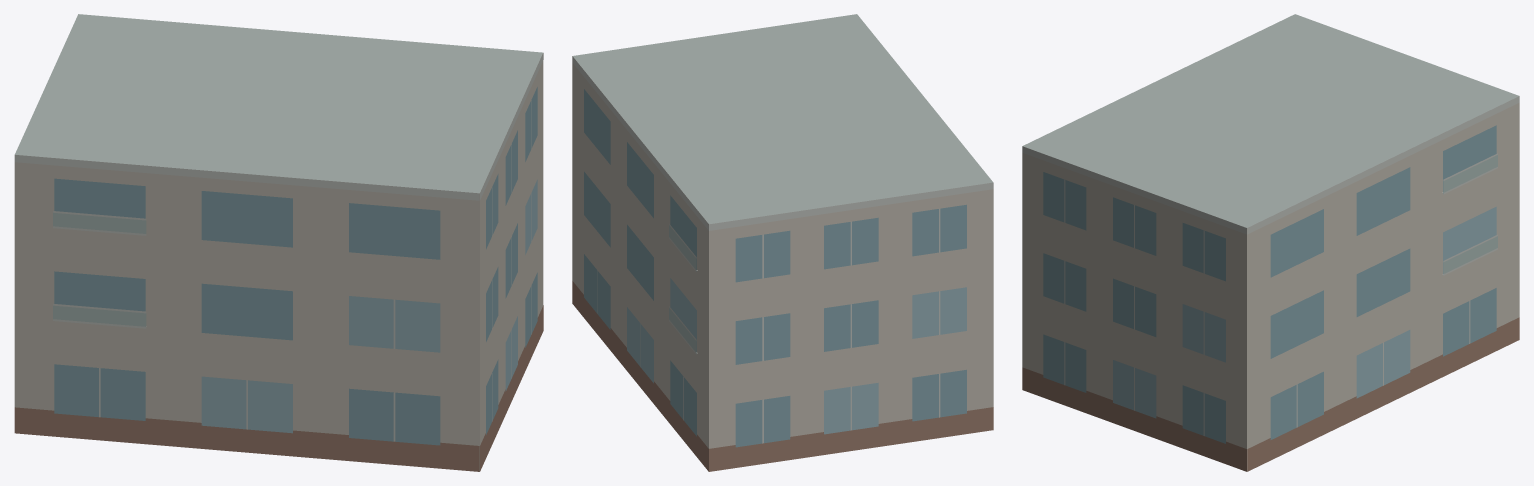
The model's file is survey-upis-32934901.glb.
3 views of the same model, side by side, from view 1: azimuth 30°, elevation 25°; view 2: azimuth 150°, elevation 25°; view 3: azimuth 270°, elevation 25° (orthographic). The views are drawn at different scales.
Visible parts, largest first — view 1: survey-upis-32934901.tmp; view 2: survey-upis-32934901.tmp; view 3: survey-upis-32934901.tmp.
Part boxes in pixels (box(x1,y1,x2,y2)): survey-upis-32934901.tmp: box(14, 14, 543, 471); survey-upis-32934901.tmp: box(572, 14, 993, 471); survey-upis-32934901.tmp: box(1022, 14, 1519, 471).
Size of the model in its own units: 17.15 by 9.1 by 16.83.
